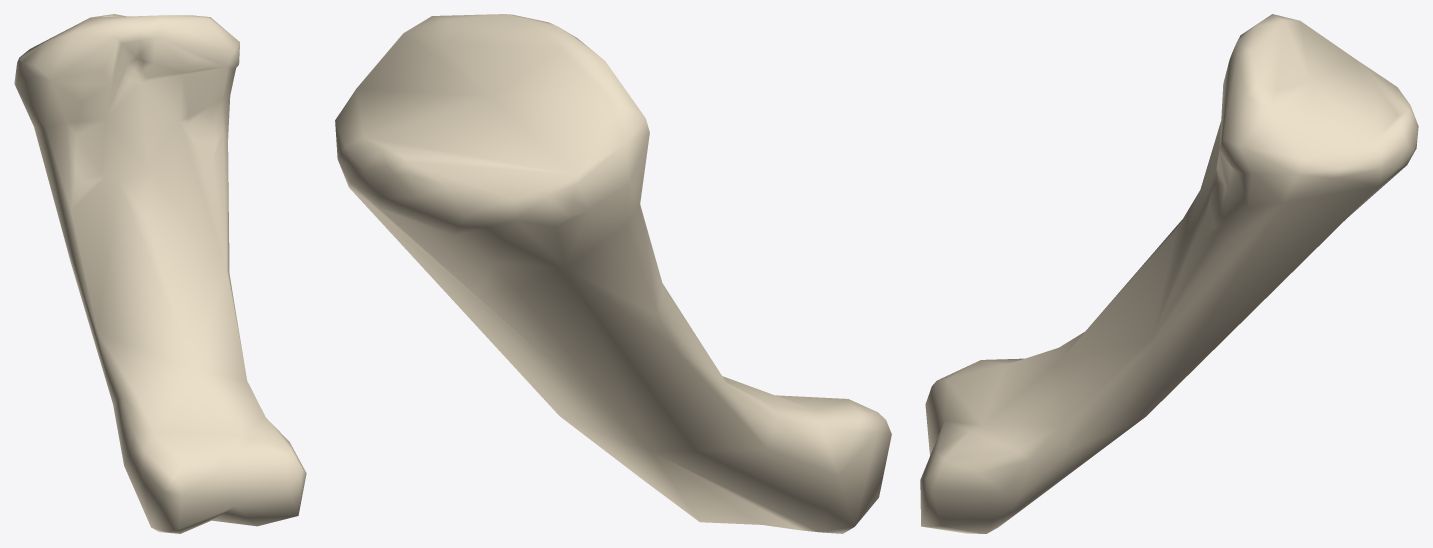
The model's file is middle-phalanx-of-third-finger-of-hand-r.glb.
The picture shows the model from 3 angles, left to right: view 1: azimuth 30°, elevation 25°; view 2: azimuth 150°, elevation 25°; view 3: azimuth 270°, elevation 25°; orthographic projection. The views are drawn at different scales.
Parts seen in each view (by area): view 1: Middle phalanx of third finger of hand.r; view 2: Middle phalanx of third finger of hand.r; view 3: Middle phalanx of third finger of hand.r.
Boxes of the visible parts, x1=… form: Middle phalanx of third finger of hand.r: x1=14, y1=14, x2=306, y2=533; Middle phalanx of third finger of hand.r: x1=335, y1=14, x2=891, y2=533; Middle phalanx of third finger of hand.r: x1=920, y1=14, x2=1418, y2=533.
Bounding box in the file's own units: 0.0142 × 0.0263 × 0.0238.
